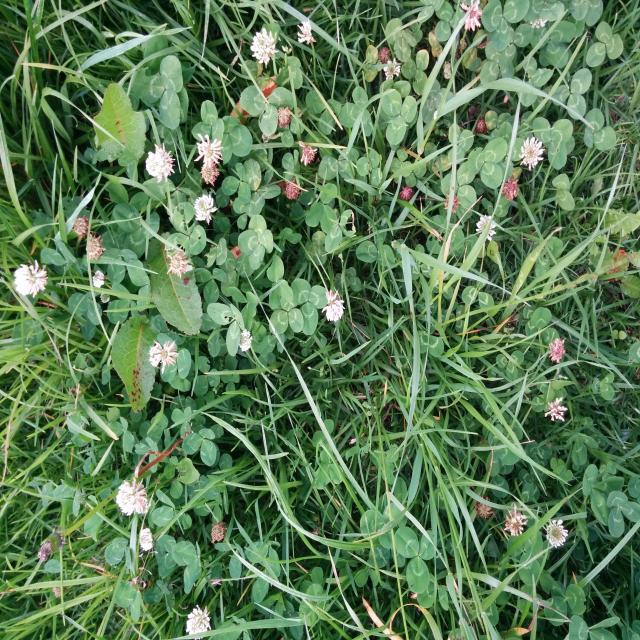Four Leaf Clover: (238, 214, 273, 270)
